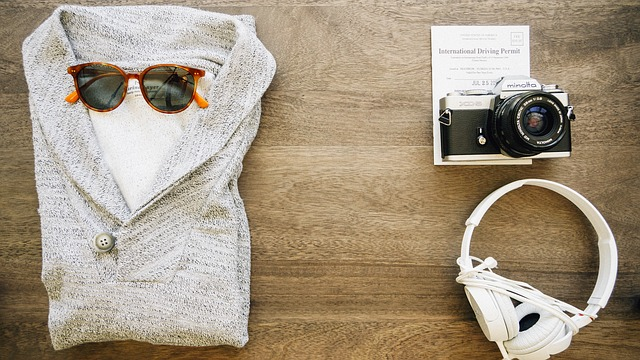headphones: (460, 180, 617, 360)
